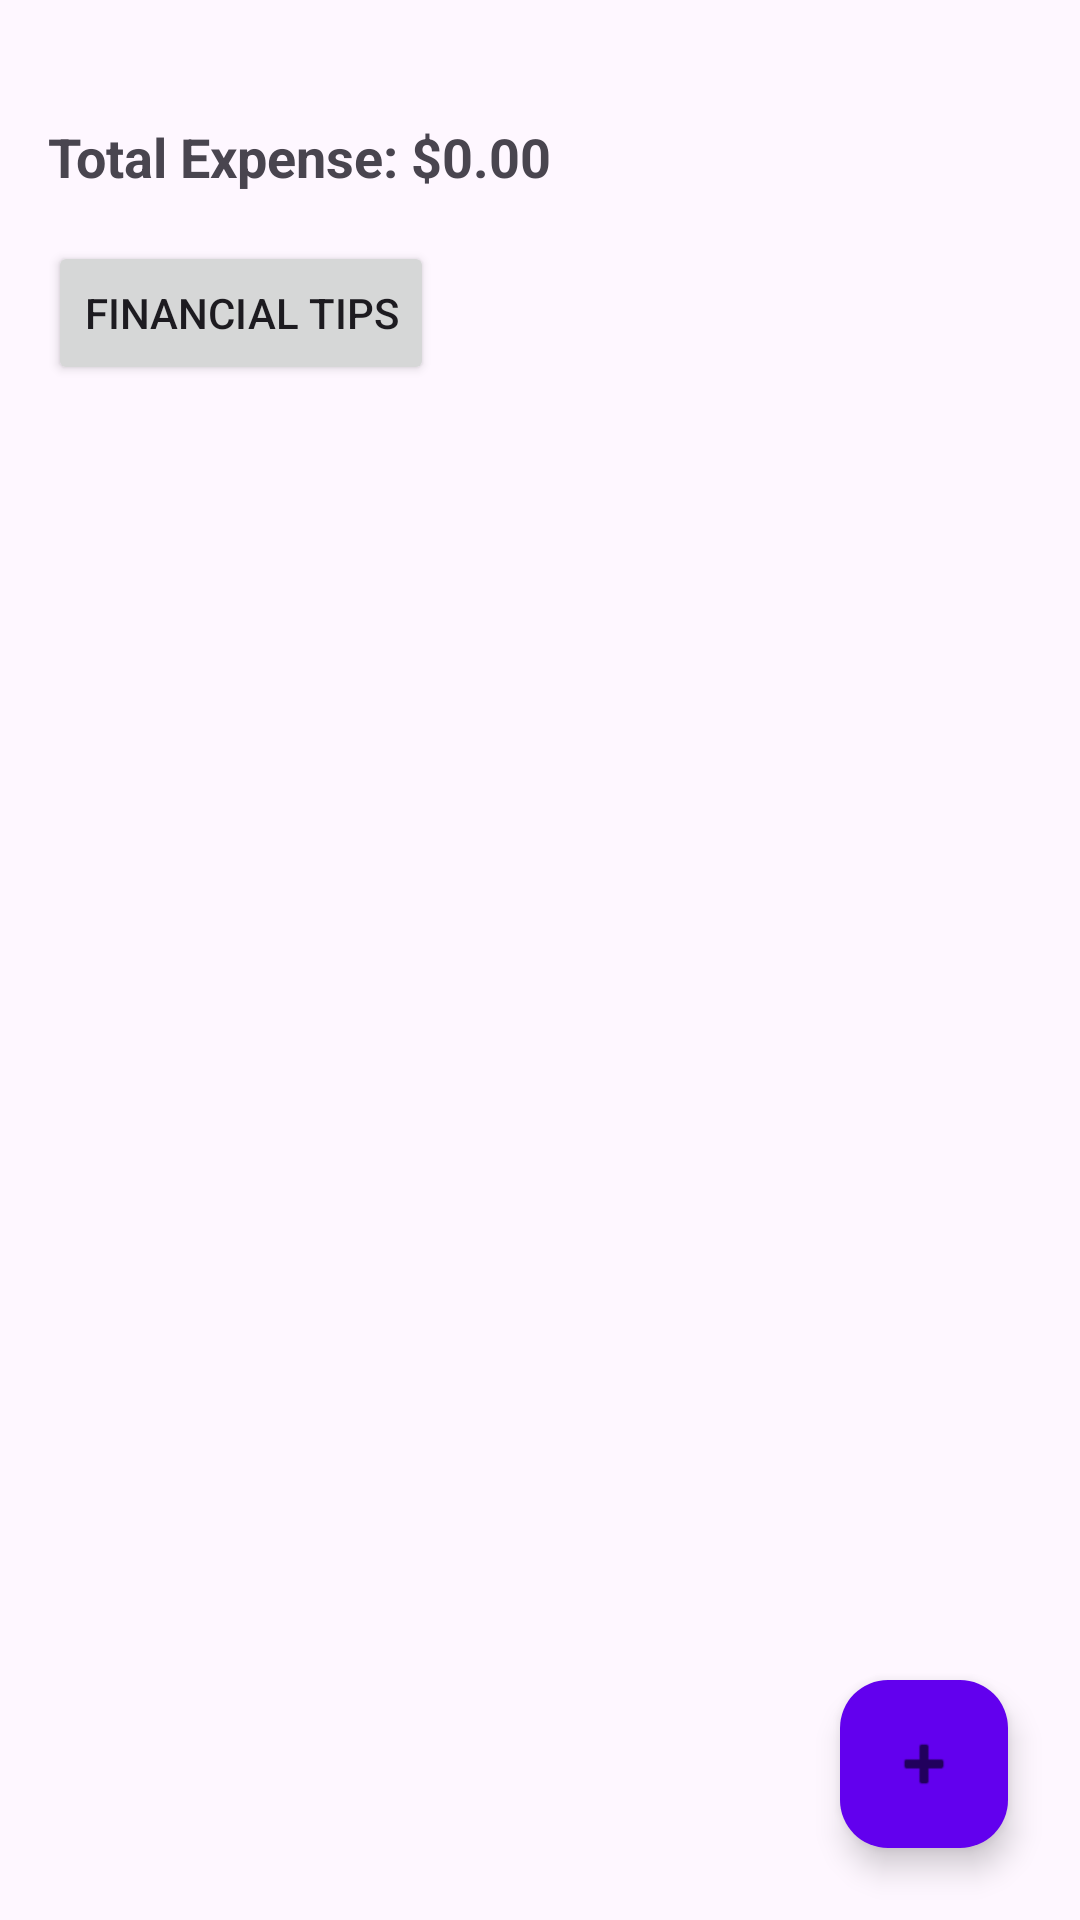

Screen size 1080 × 1920. Icon name, then its box in pixels as [x1,y1,x2,y2]:
Add Expense: [840,1680,1008,1848]
